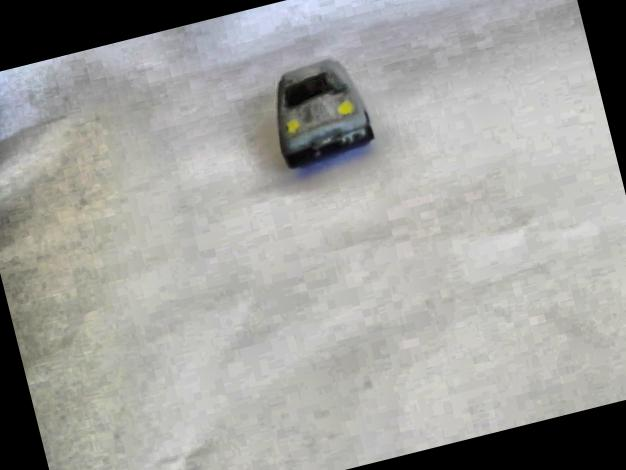normal_car: (260, 50, 380, 169)
